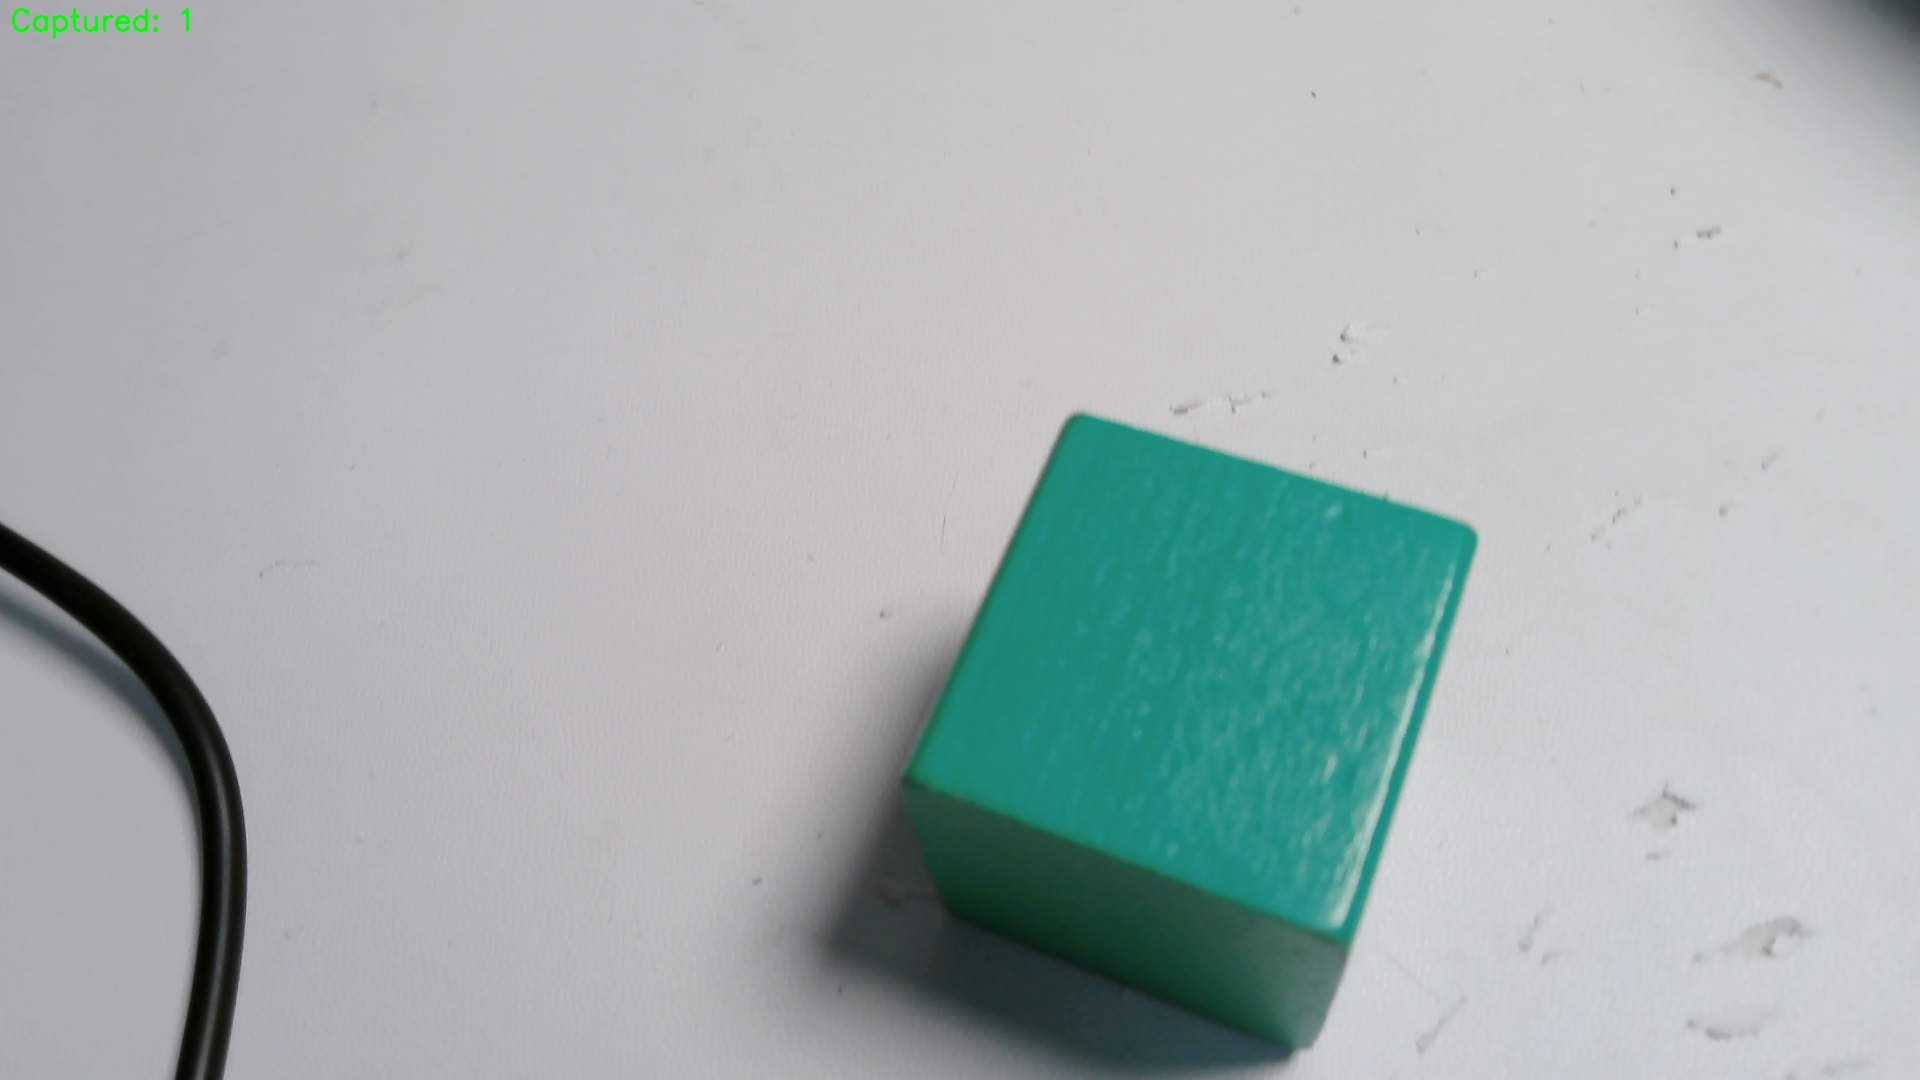green: (902, 411, 1478, 1054)
